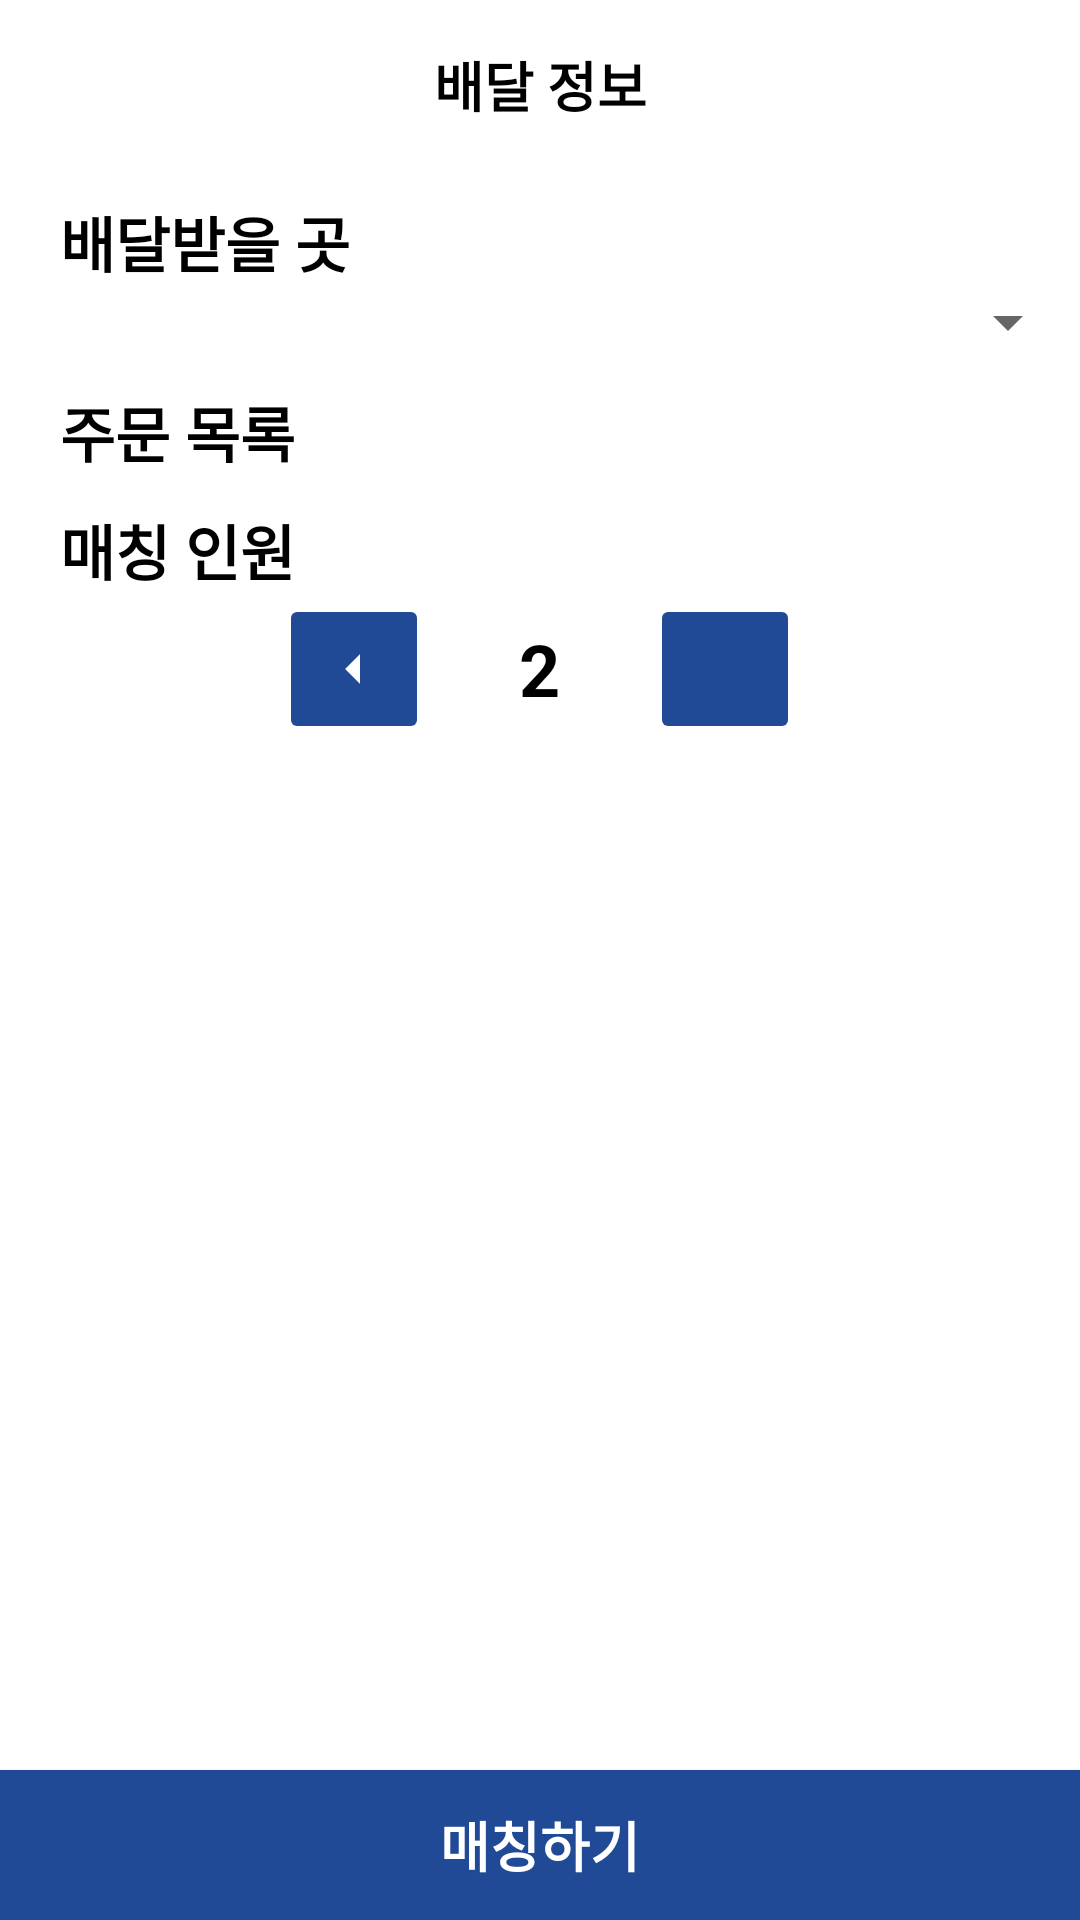

Locate icon controls on the screen. Image size 1080w x 1920h, boxes as bbox=[x1, y1, x2, y2].
arrow left: bbox=[291, 612, 417, 726]
